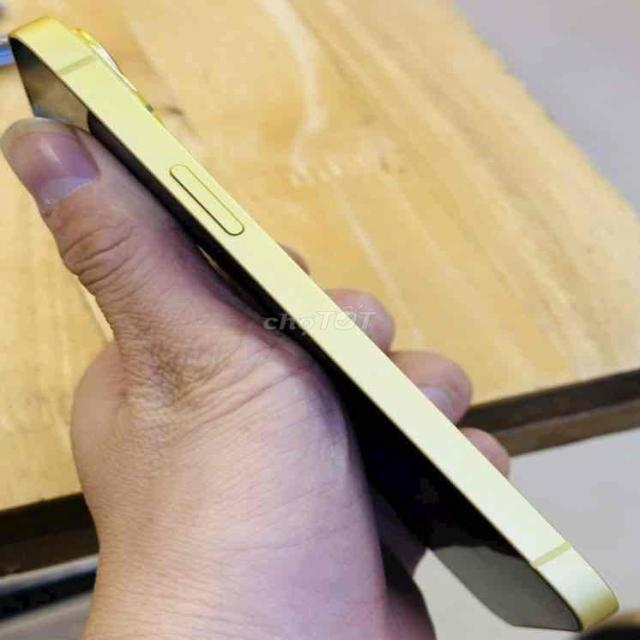gen_14: (14, 11, 618, 639)
